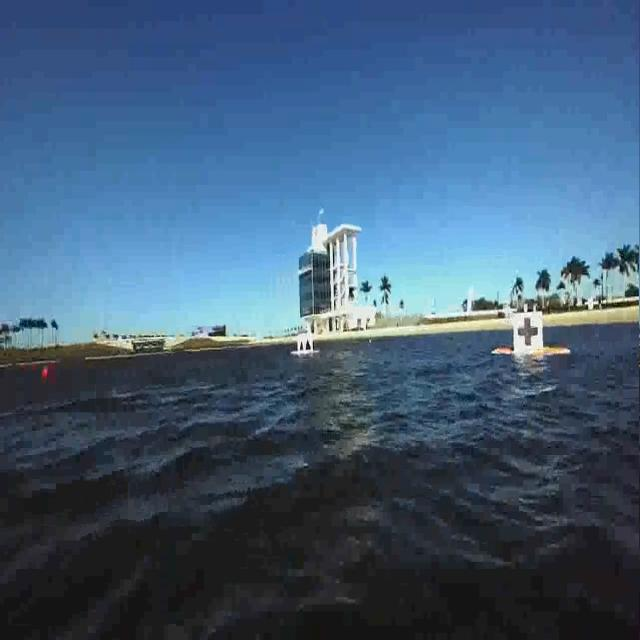red-buoy: (42, 368, 48, 374)
